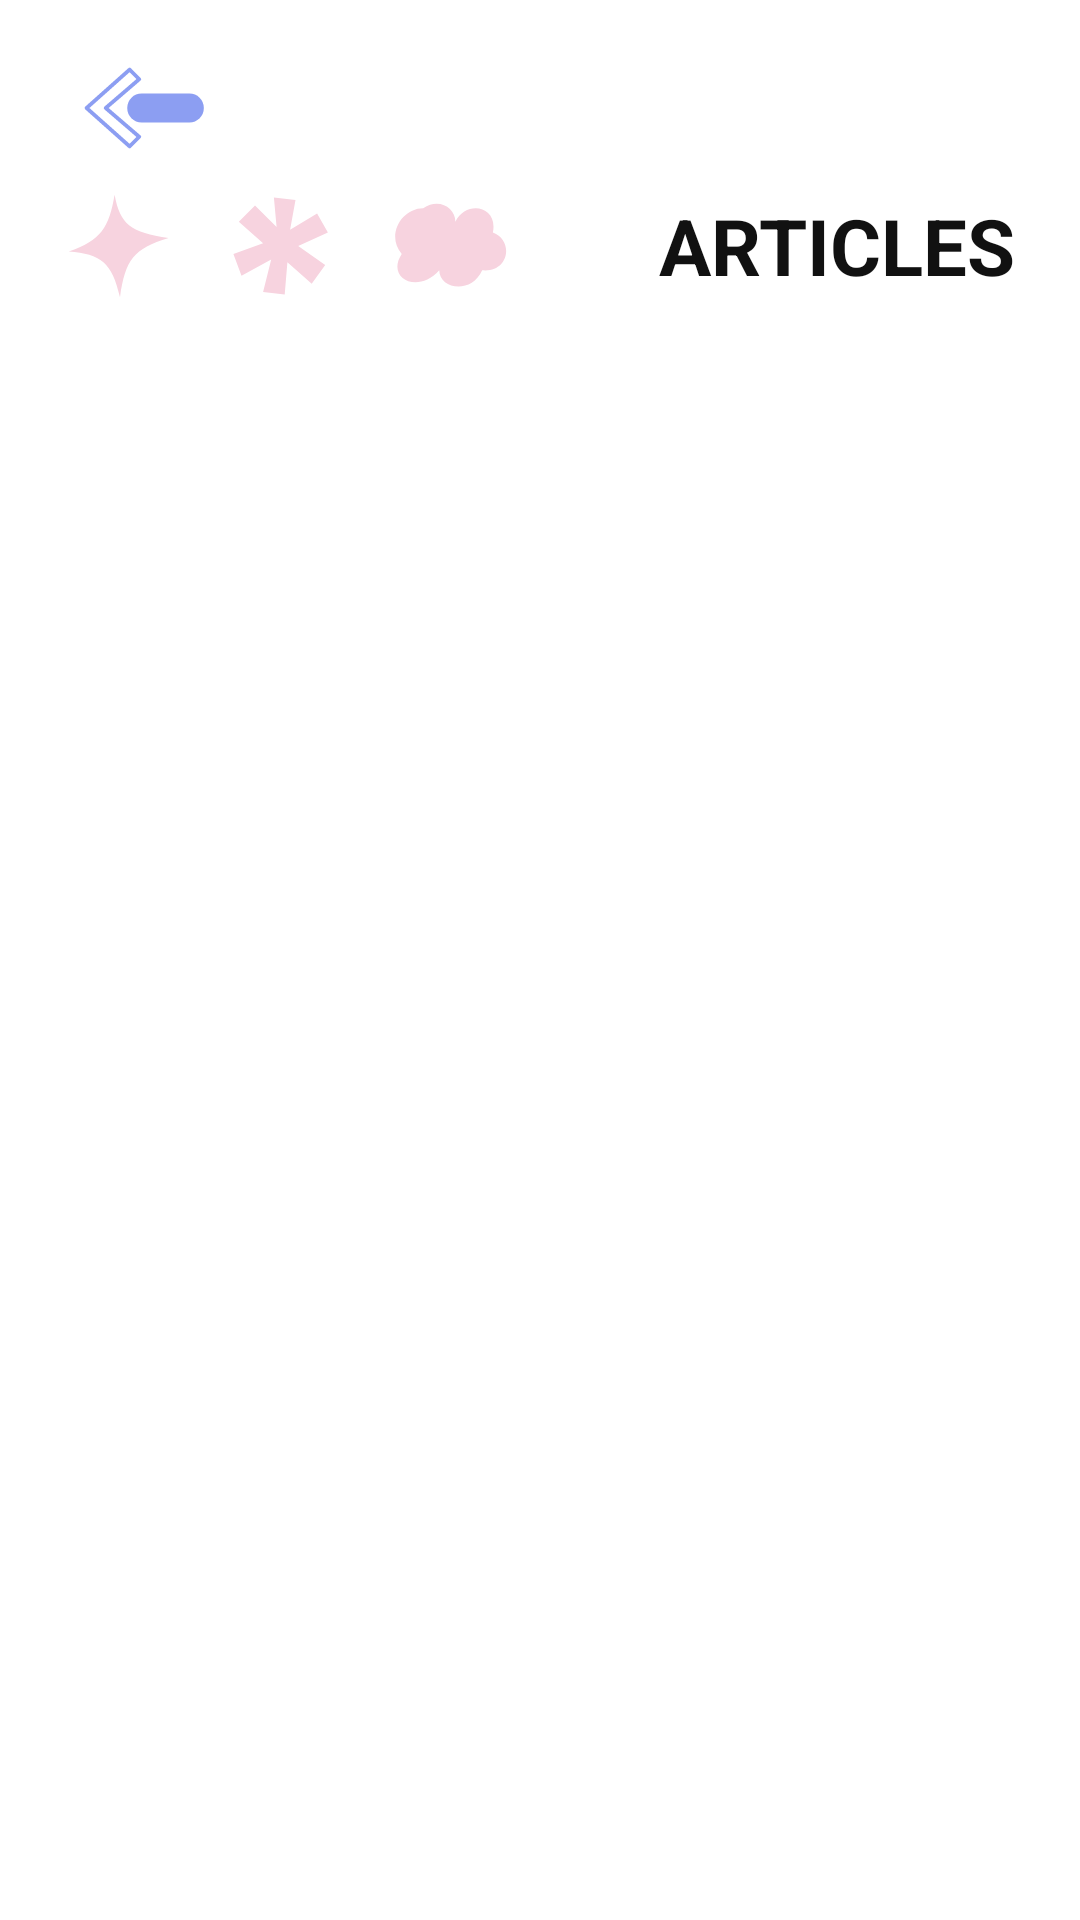

Where to tap for icons on this 1080×1920 app screen, as [x,y]:
Back: [144,108]
shape asterisk: [280,246]
shape star: [118,245]
